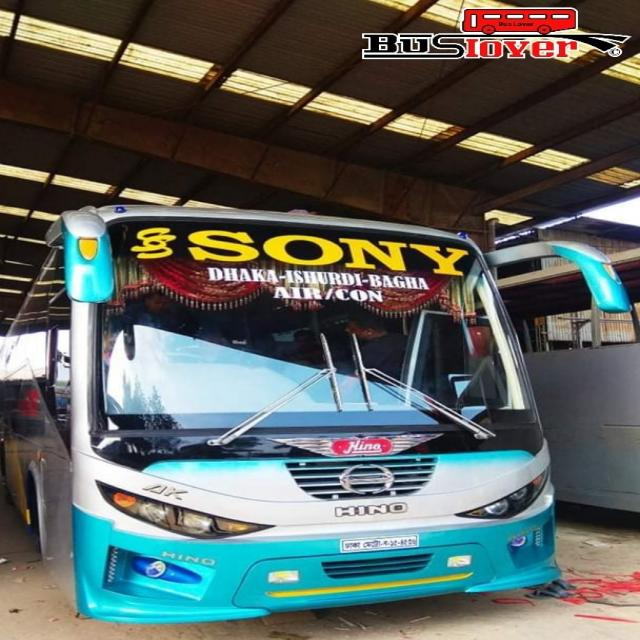bus: (0, 205, 630, 627)
